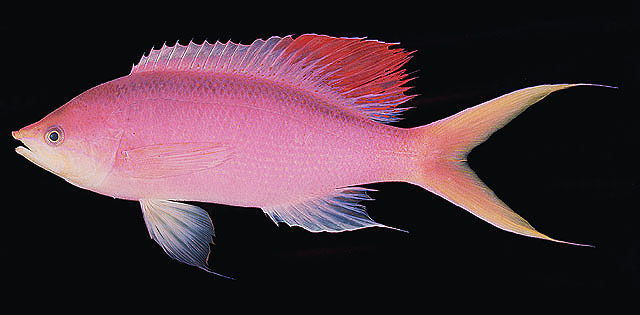fish: (10, 32, 618, 280)
